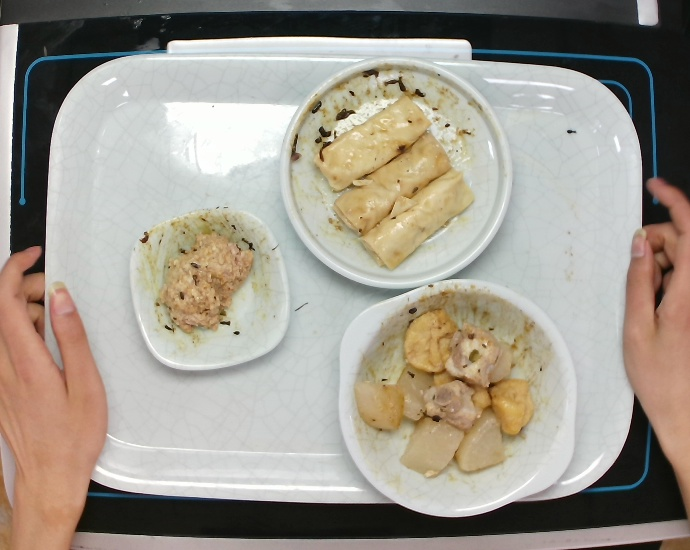JYsf-Shuang_Er_Wan: (335, 275, 579, 520)
JYsf-Si_Fang_Die: (126, 202, 292, 374)
JYsf-Xiao_Yuan_Pan: (277, 54, 515, 292)
